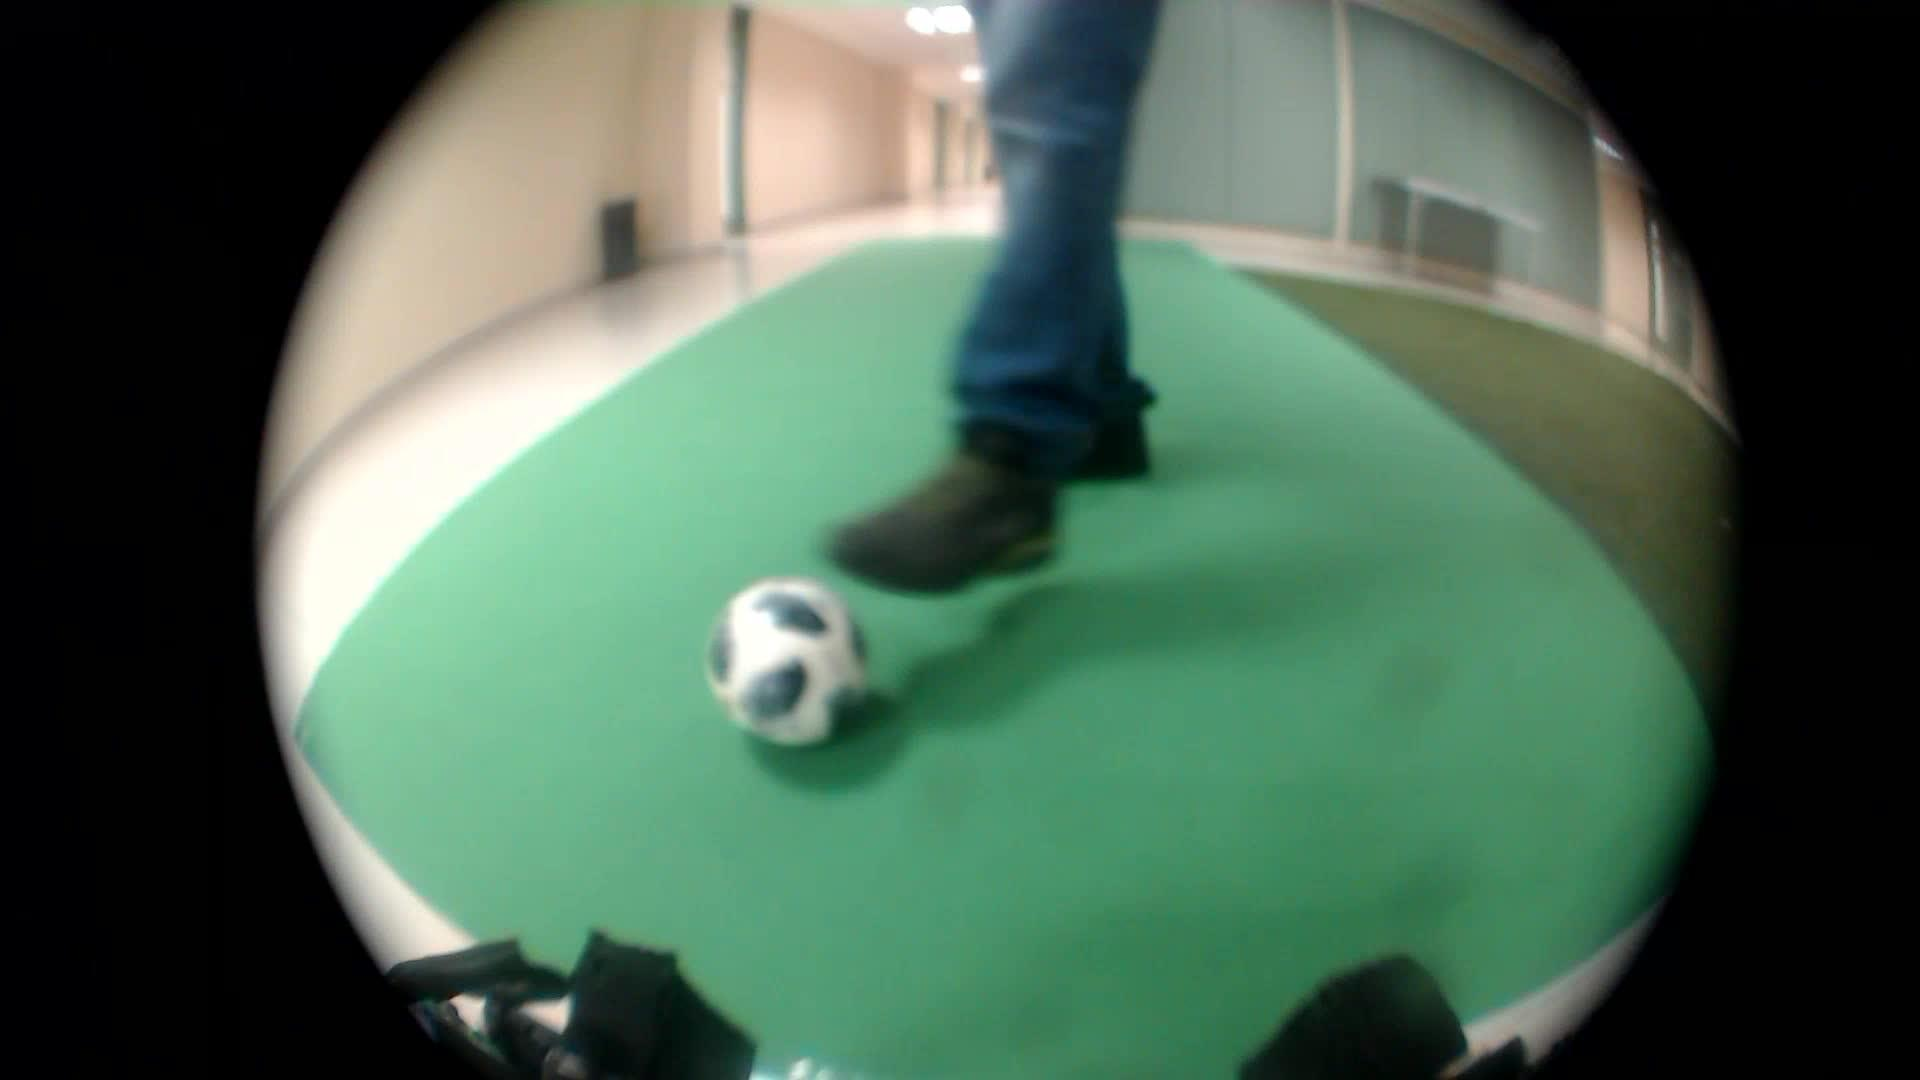ball: (680, 559, 924, 764)
